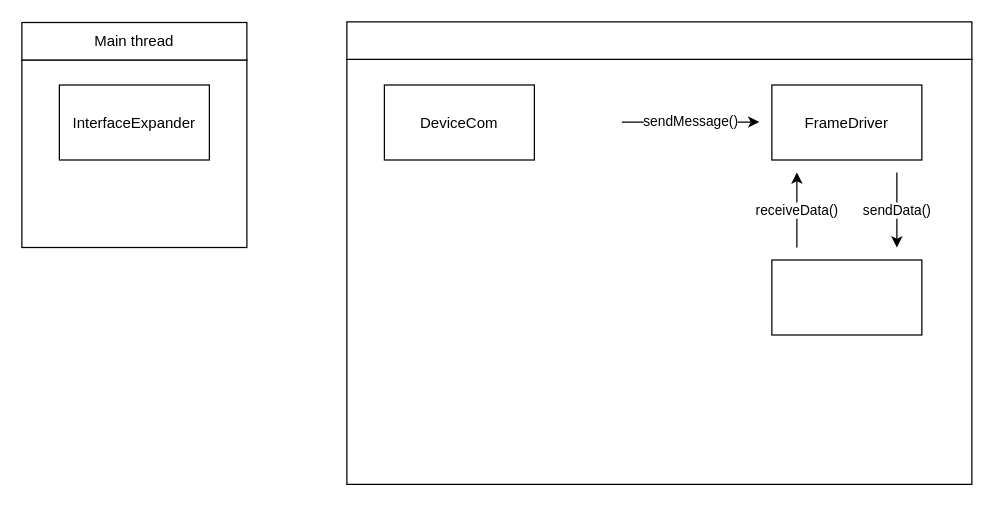
Some shapes in this 994 by 506 pixel diagram are drawn without their labels. Each missing label, with the centre of its shape:
Com thread: pixel 659 40
SerialPort: pixel 846 297
